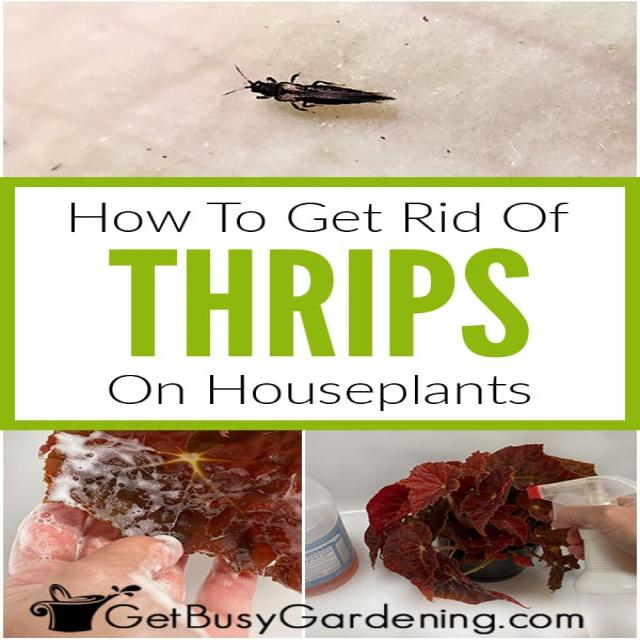Thrip-Adult-: (203, 50, 412, 121)
